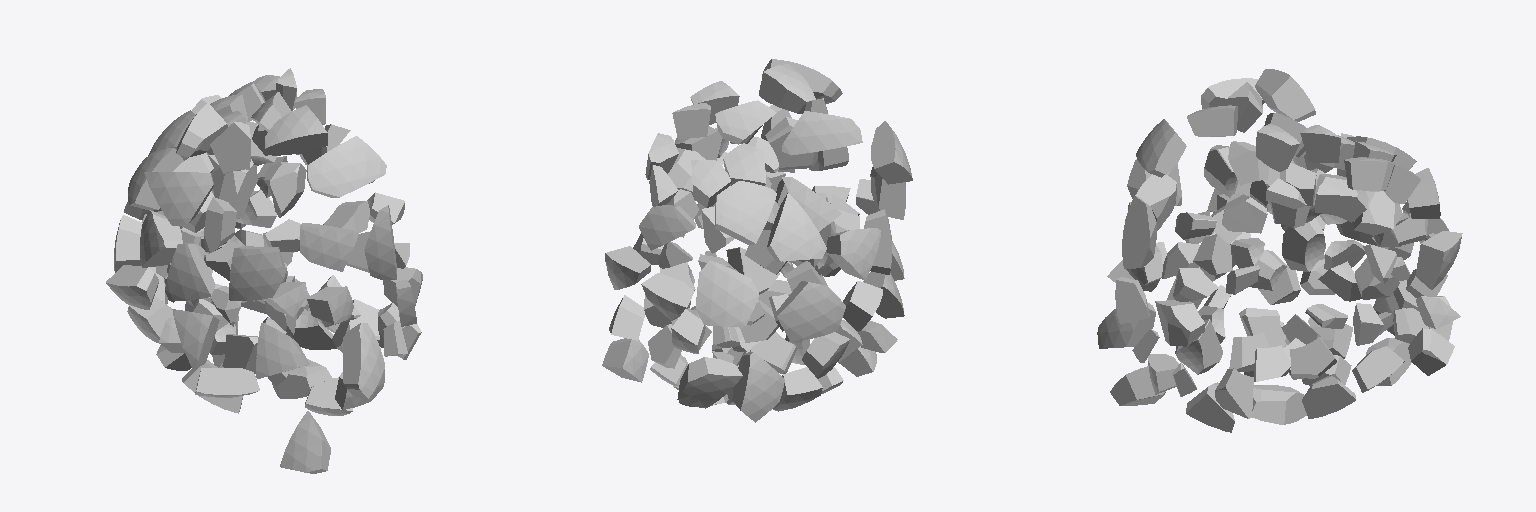
The model's file is shatter_7.obj.
The picture shows the model from 3 angles: view 1: azimuth 30°, elevation 25°; view 2: azimuth 150°, elevation 25°; view 3: azimuth 270°, elevation 25°; orthographic projection.
Bounding box in the file's own units: 25.01 × 30.17 × 31.05.